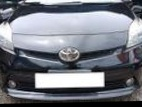car: (0, 0, 142, 104)
